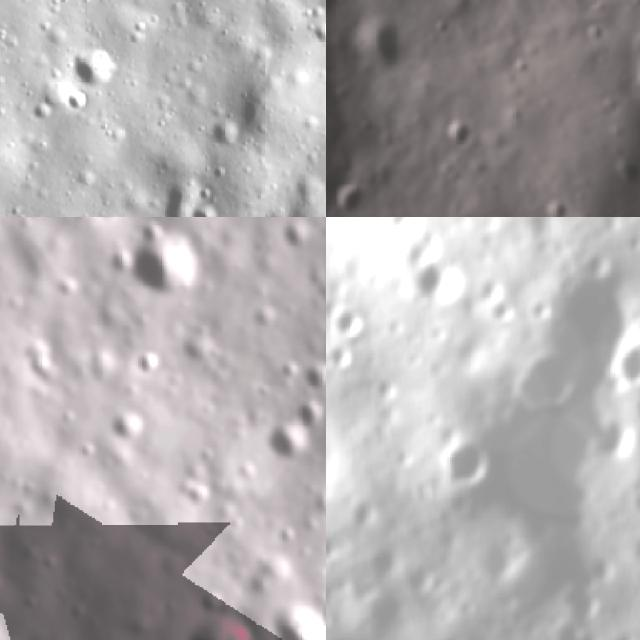crater: (515, 266, 623, 403), (326, 32, 370, 213), (122, 221, 215, 298), (411, 248, 462, 309), (438, 433, 491, 491), (262, 419, 314, 477), (368, 12, 410, 74), (622, 25, 640, 154), (437, 105, 482, 156), (270, 602, 326, 640), (104, 405, 153, 448), (147, 178, 201, 217), (189, 611, 261, 640), (72, 42, 110, 94), (560, 580, 604, 624), (328, 300, 370, 340), (332, 176, 372, 217), (200, 118, 237, 158), (277, 220, 314, 256), (294, 395, 326, 435), (178, 473, 212, 510), (131, 344, 163, 382), (326, 336, 356, 373), (617, 334, 640, 380), (301, 357, 326, 396), (51, 276, 85, 300), (185, 200, 228, 217)
